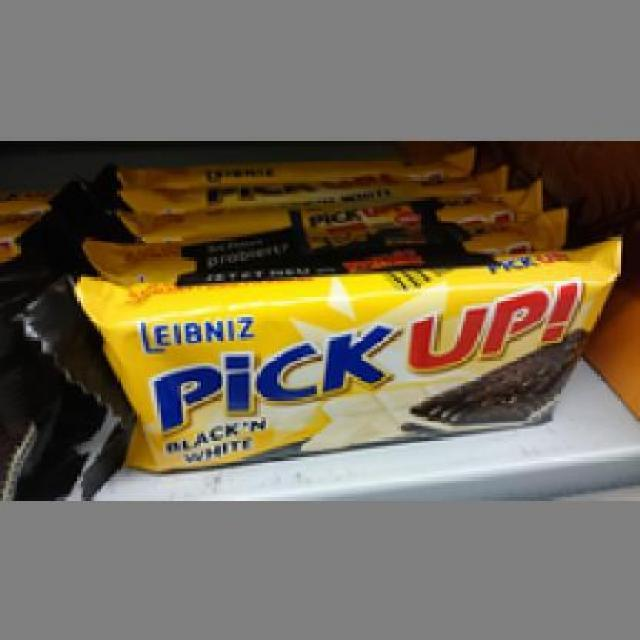Chocolate bar: (68, 257, 612, 457)
